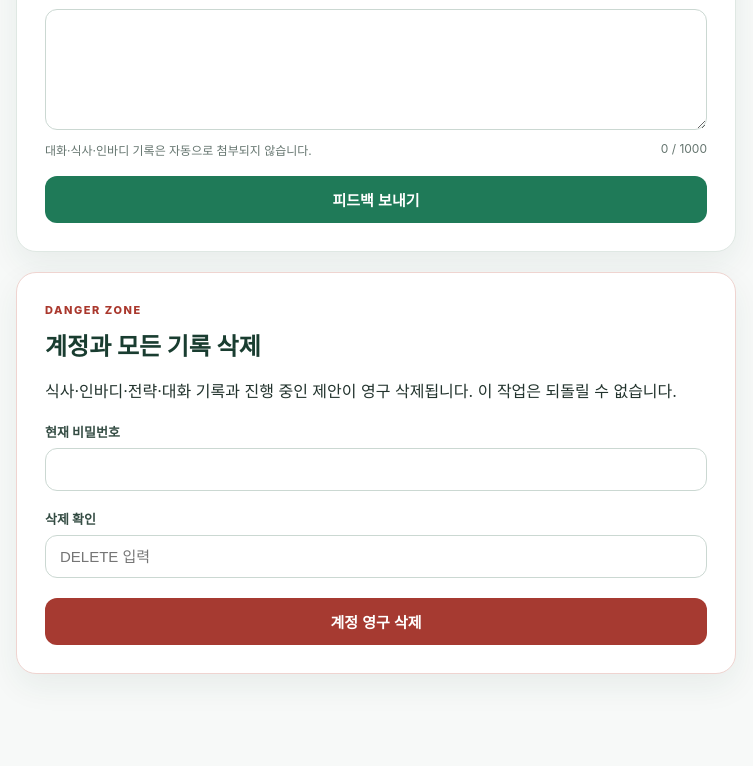
keeps the retry path visible when only auth deletion is pending
(page scrolled)
Type "correct-password" into the password field labelled "현재 비밀번호" at {"x": 376, "y": 470}, box [45,448,707,491]
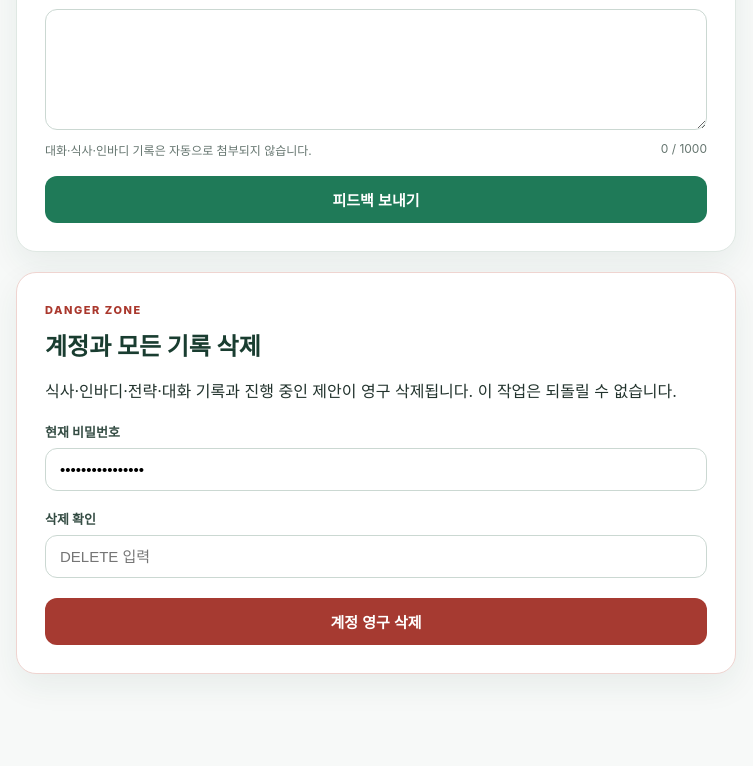
Type "DELETE" into the field labelled "삭제 확인" at {"x": 376, "y": 557}, box [45,535,707,578]
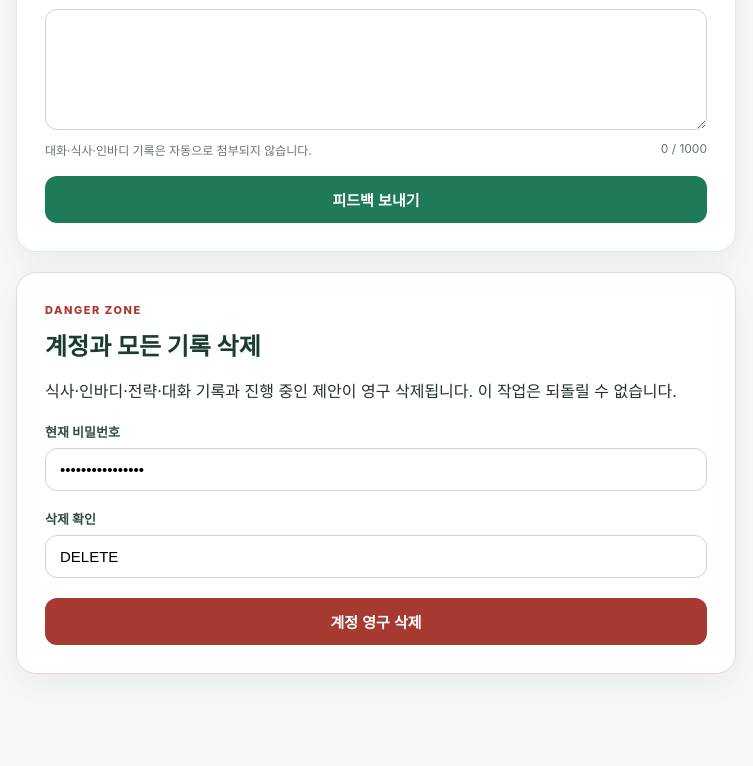
Click the button "계정 영구 삭제" at {"x": 376, "y": 622}, box [45,598,707,645]
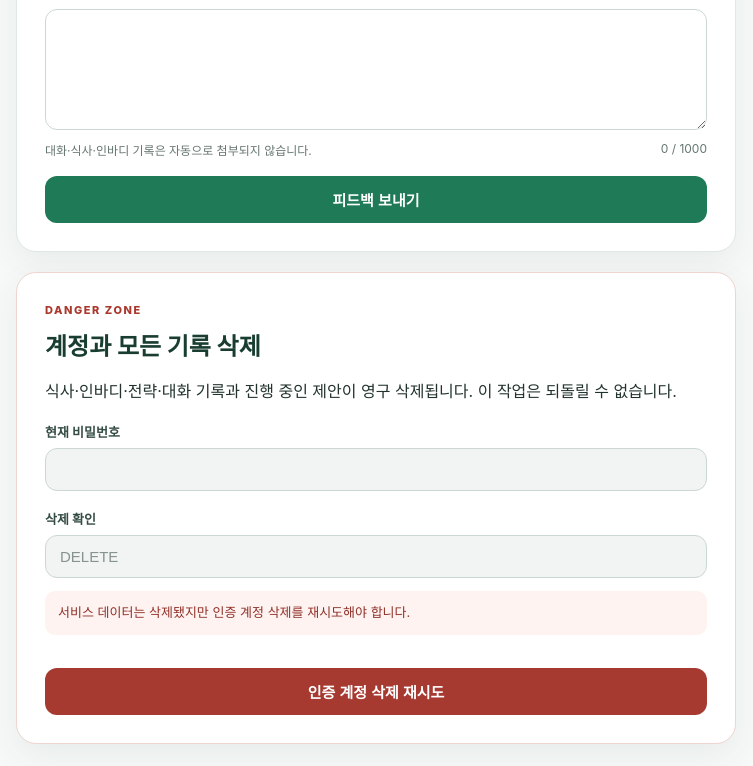
expect the text "서비스 데이터는 삭제됐지만 인증 계정 삭제를 재시도해야 합니다." is shown: met, box [45,591,707,634]
expect the button "인증 계정 삭제 재시도" is shown: met, box [45,668,707,715]
